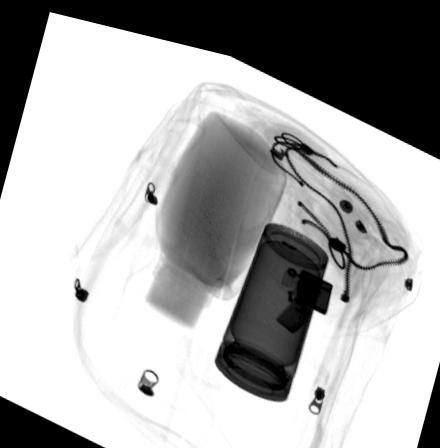Lighter: (272, 251, 332, 319)
